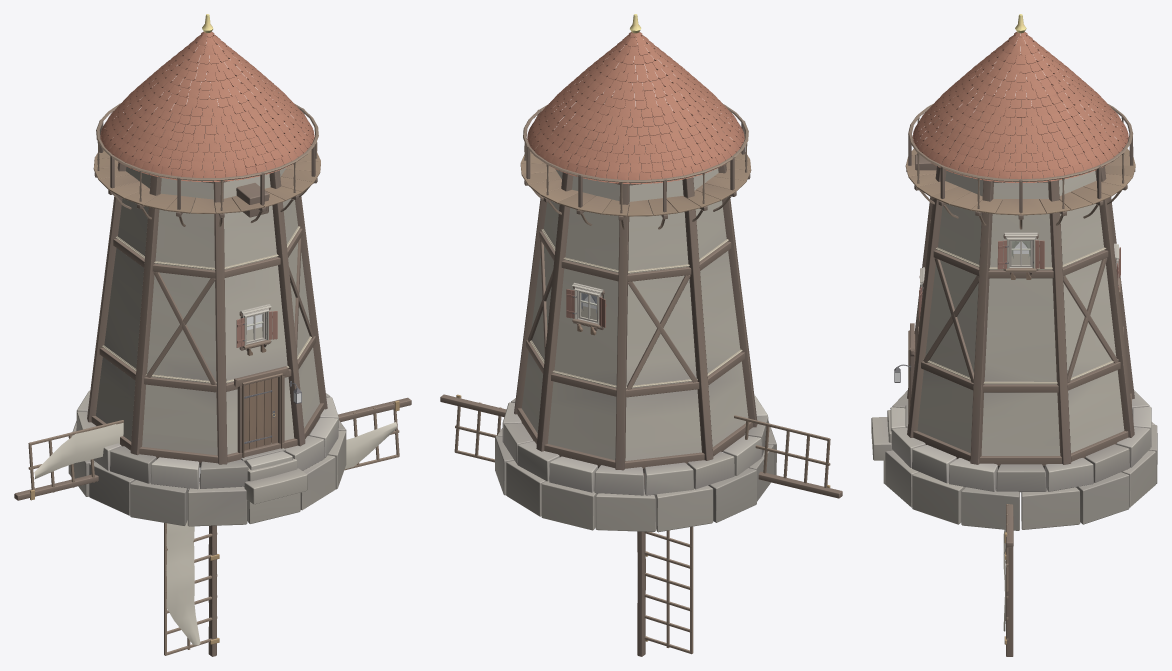
File: bd_windmill.glb
The picture shows the model from 3 angles, left to right: view 1: azimuth 30°, elevation 25°; view 2: azimuth 150°, elevation 25°; view 3: azimuth 270°, elevation 25°; orthographic projection.
Parts seen in each view (by area): view 1: BD_windmill__body, BD_windmill__rotor; view 2: BD_windmill__body, BD_windmill__rotor; view 3: BD_windmill__body, BD_windmill__rotor.
Boxes of the visible parts, left/top/right/bottom form: BD_windmill__body: left=68, top=14, right=346, bottom=526; BD_windmill__rotor: left=14, top=397, right=411, bottom=656; BD_windmill__body: left=495, top=14, right=776, bottom=532; BD_windmill__rotor: left=440, top=394, right=842, bottom=656; BD_windmill__body: left=871, top=14, right=1157, bottom=530; BD_windmill__rotor: left=1003, top=504, right=1013, bottom=656.
Bounding box in the file's own units: 12.2 × 18.84 × 7.61.
